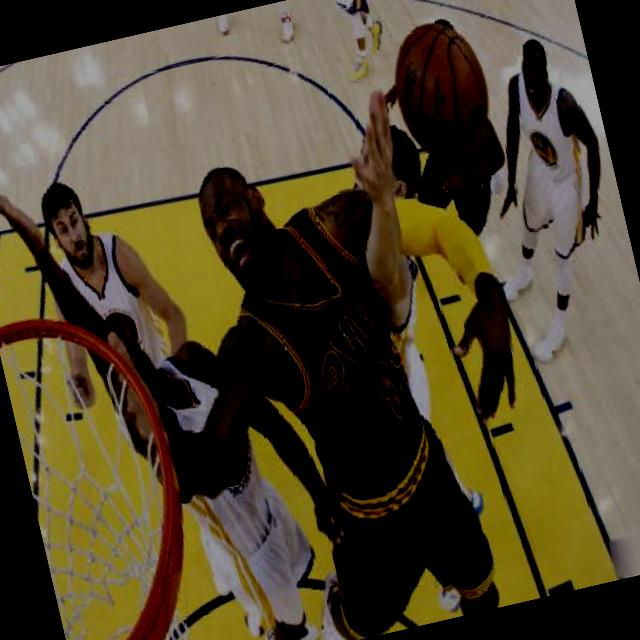Person: (424, 0, 640, 366)
